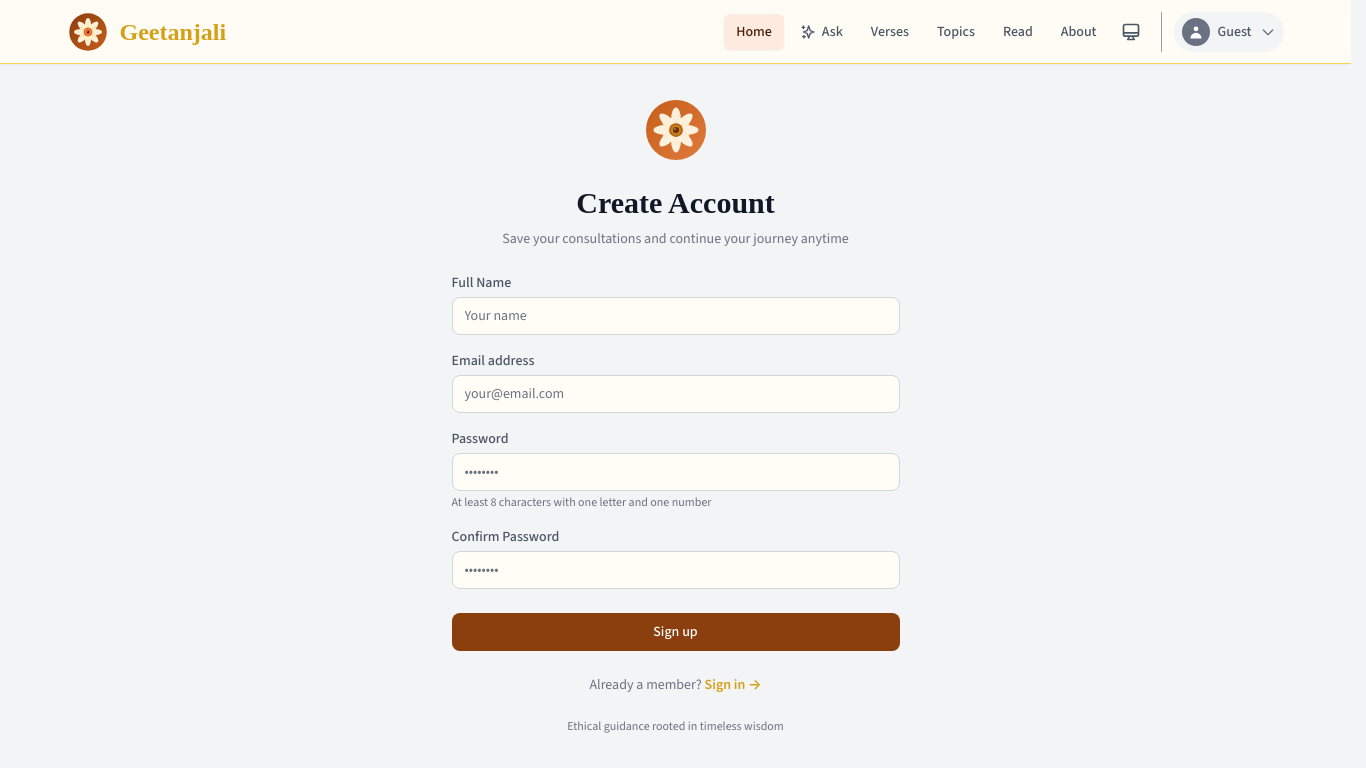
Test: Signup Password Validation › should reject passwords that don't match
The width and height of the screenshot is (1366, 768).
Type "John Doe" into the field labelled "Full Name" at x=676, y=316, box [452, 296, 900, 334]
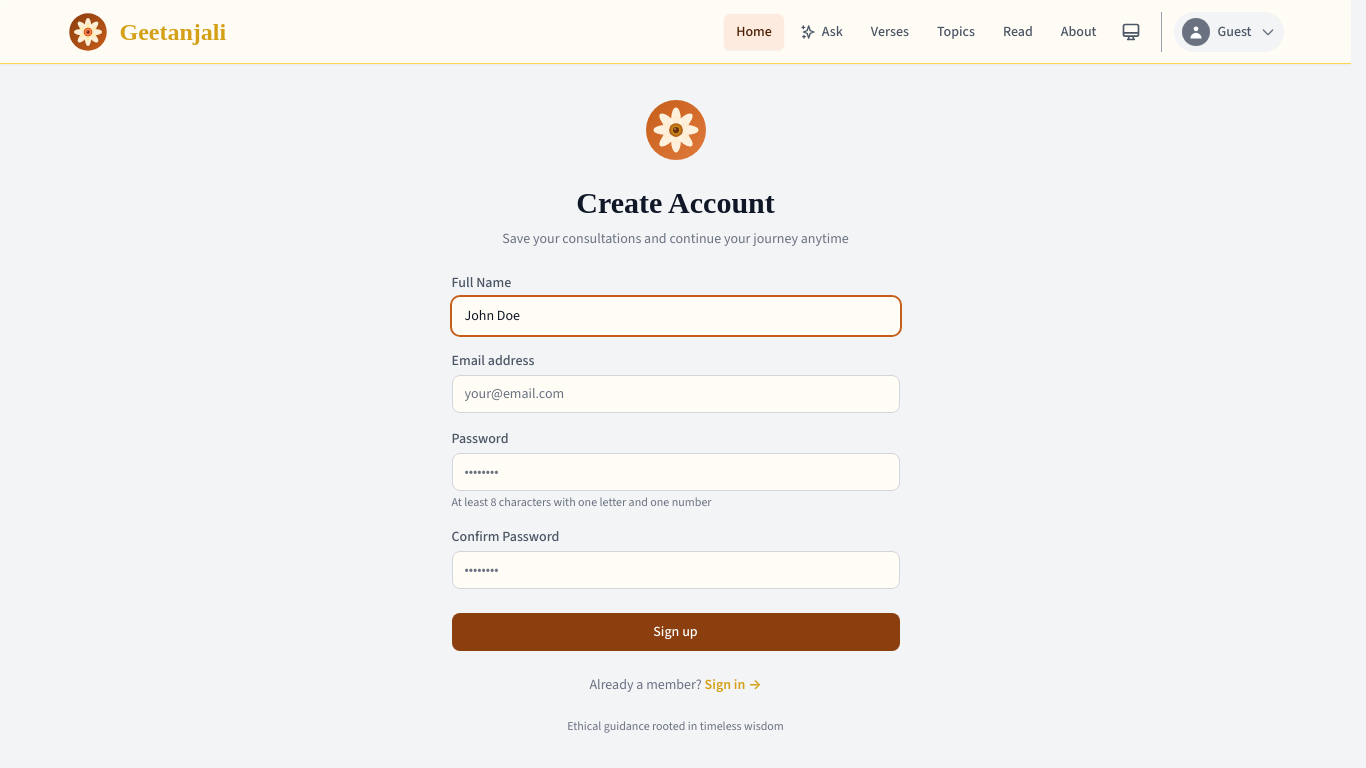
Type "john@example.com" into the field labelled "Email address" at x=676, y=394, box [452, 374, 900, 412]
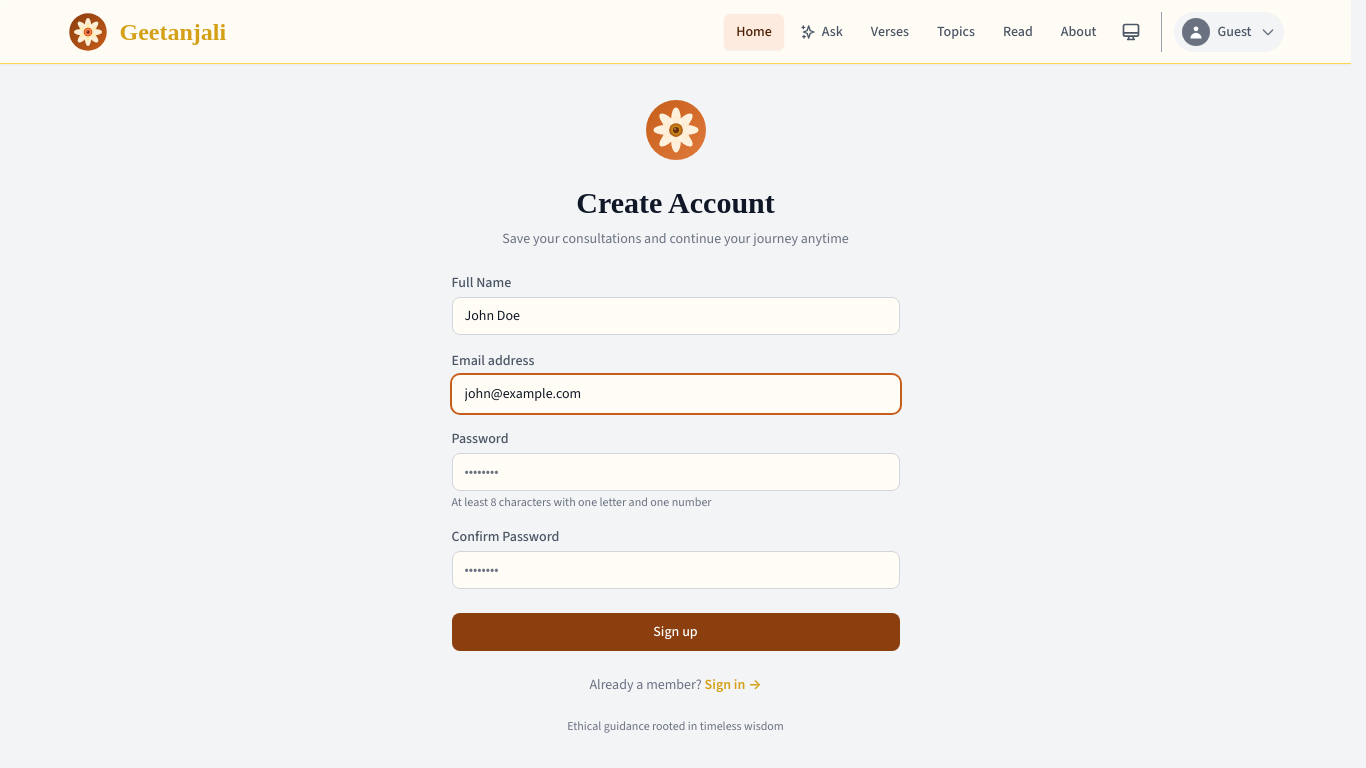
Type "Password123" into the password field labelled "Password" at x=676, y=472, box [452, 452, 900, 490]
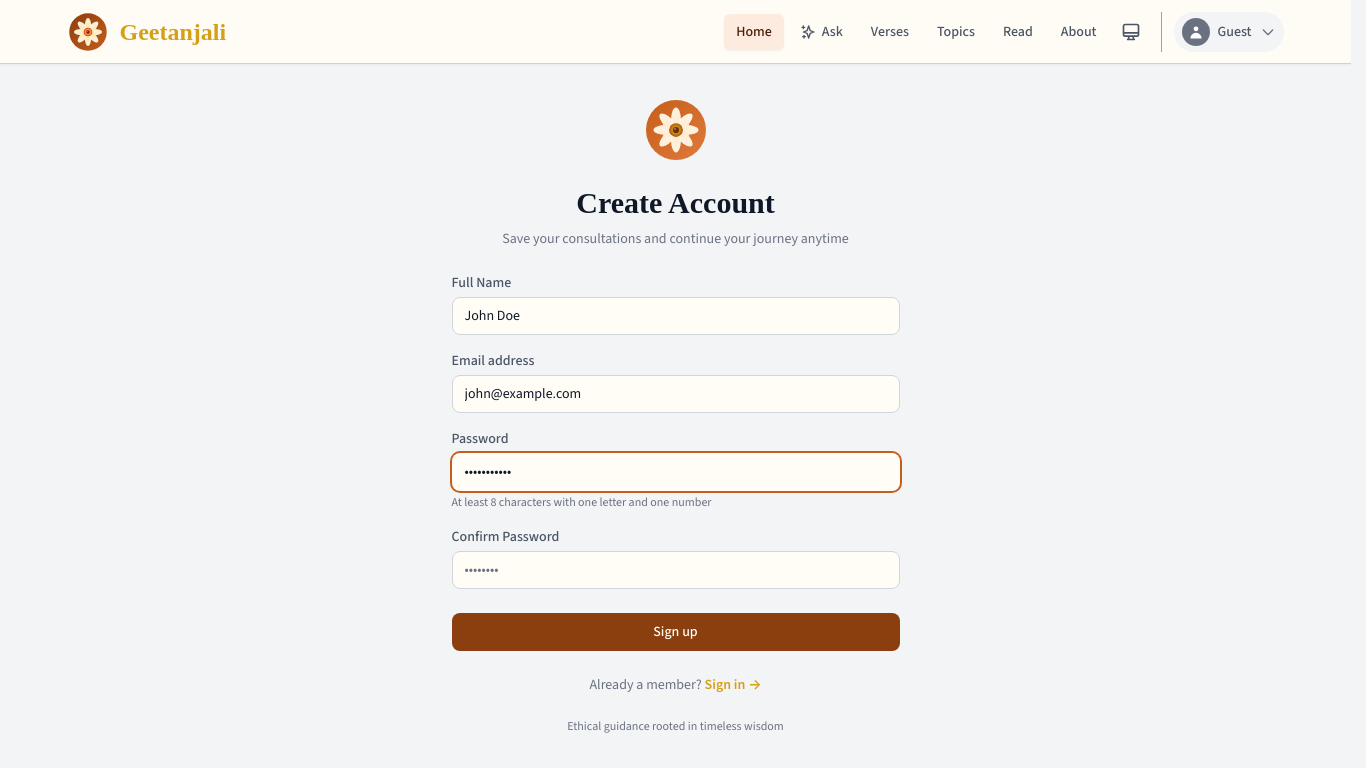
Type "DifferentPass456" into the password field labelled "Confirm Password" at x=676, y=570, box [452, 550, 900, 588]
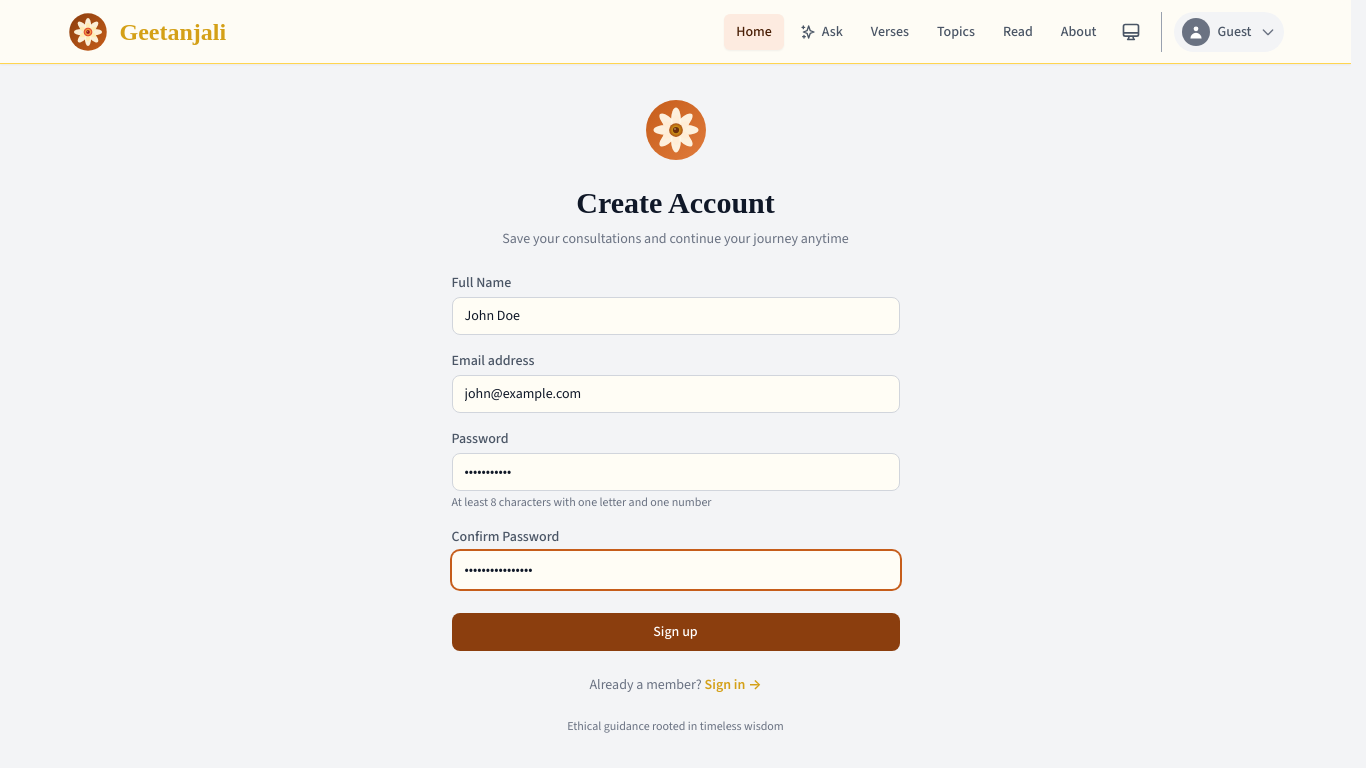
Click the button "Sign up" at x=676, y=632, box [452, 612, 900, 650]
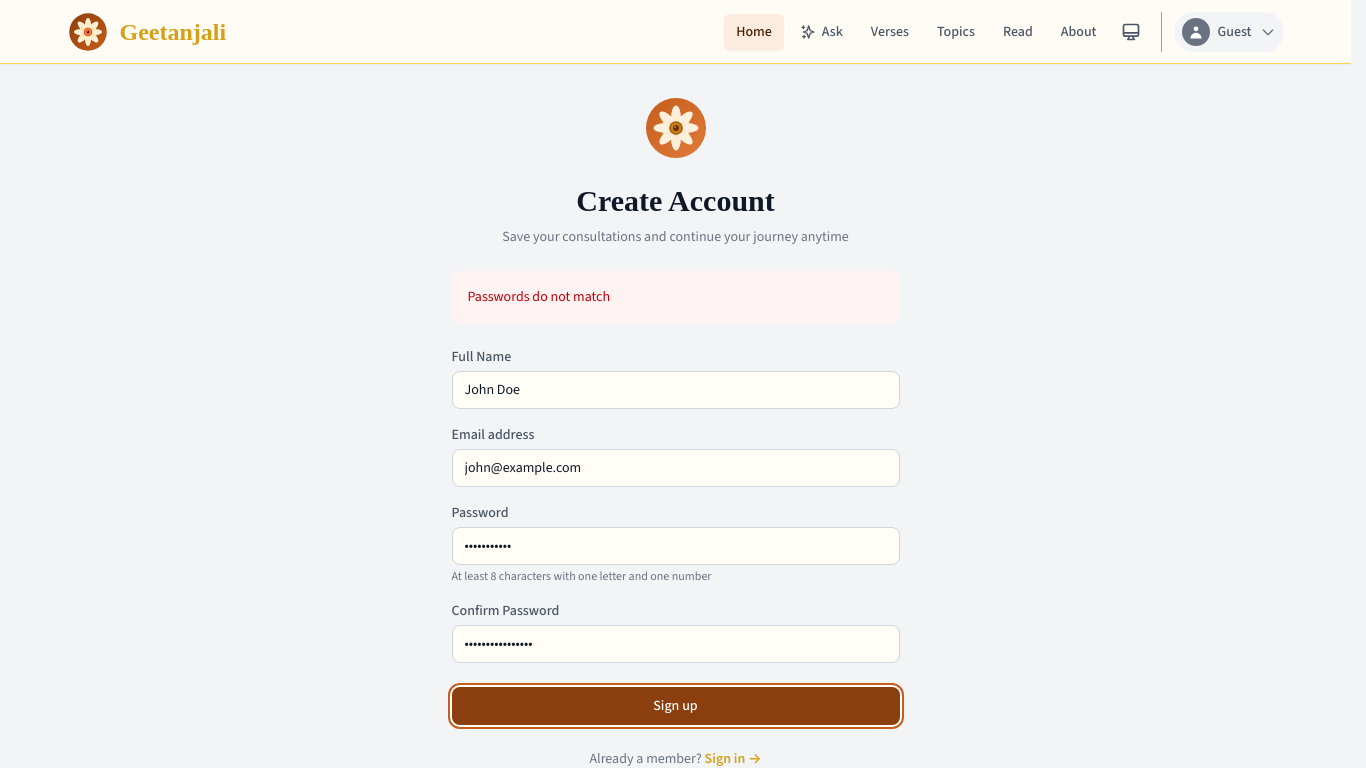
Check: the text "Passwords do not match" is shown, box [468, 287, 610, 307]
